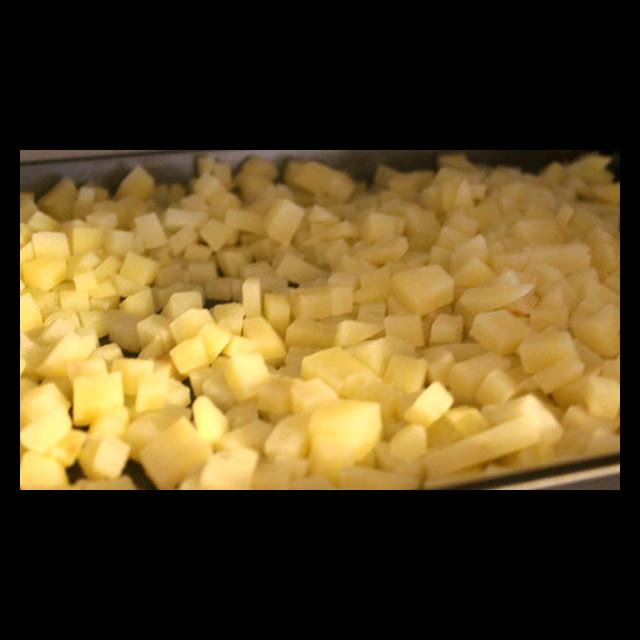potato: (20, 194, 620, 456)
